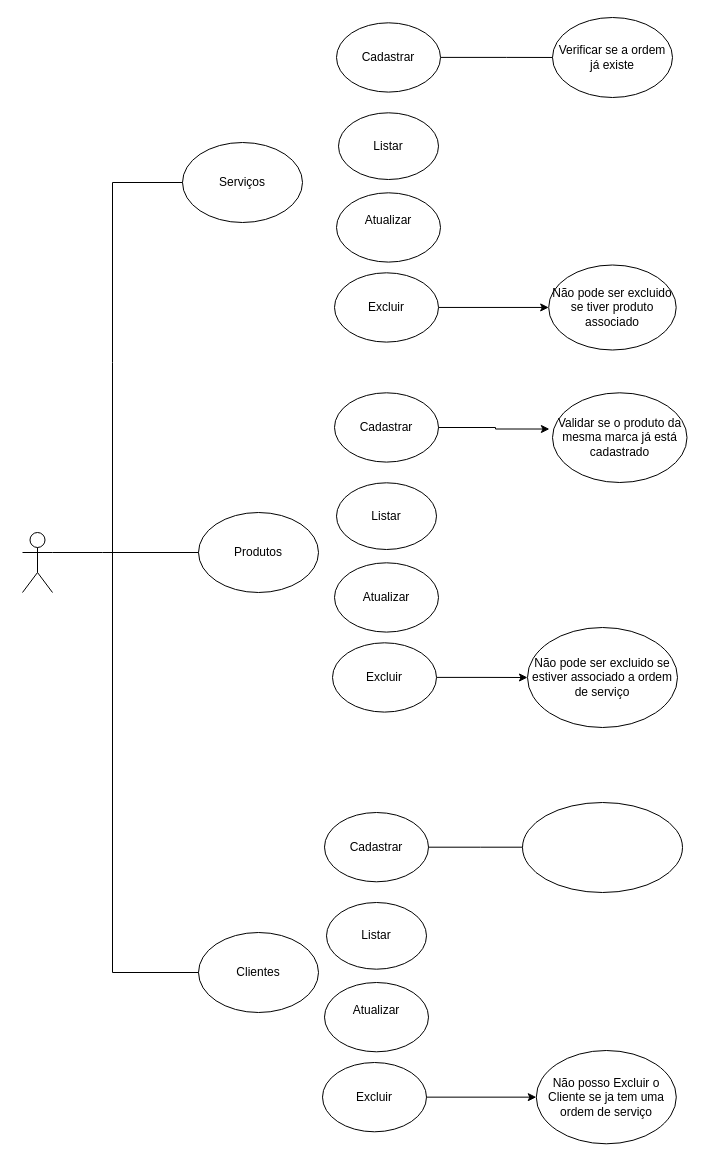
This 705x1162 diagram has some shape labels left out. The box of each missing label's shape, as (x1, y1, x2, y2) in pixels:
Usuário: (22, 532, 52, 592)
Validar se o cliente ja esta cadastrado: (522, 802, 682, 892)
